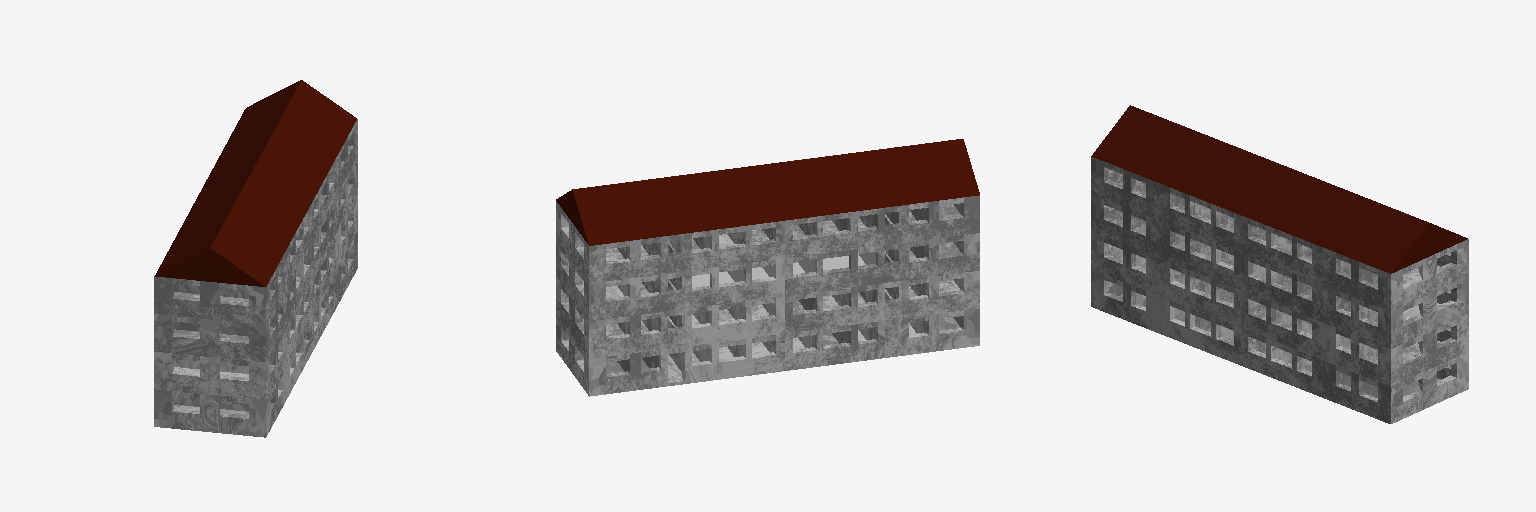
The picture shows the model from 3 angles: view 1: azimuth 30°, elevation 25°; view 2: azimuth 150°, elevation 25°; view 3: azimuth 270°, elevation 25°; orthographic projection.
Visible parts, largest first — view 1: buildings_mtnewtown_crib_done; view 2: buildings_mtnewtown_crib_done; view 3: buildings_mtnewtown_crib_done.
Part boxes in pixels (x1,y1,x2,y2): buildings_mtnewtown_crib_done: (154, 80, 357, 437); buildings_mtnewtown_crib_done: (556, 139, 979, 396); buildings_mtnewtown_crib_done: (1091, 105, 1468, 423).
Size of the model in its own units: 34.78 by 19.49 by 36.24.
Materials: 3 (1 with a texture image).